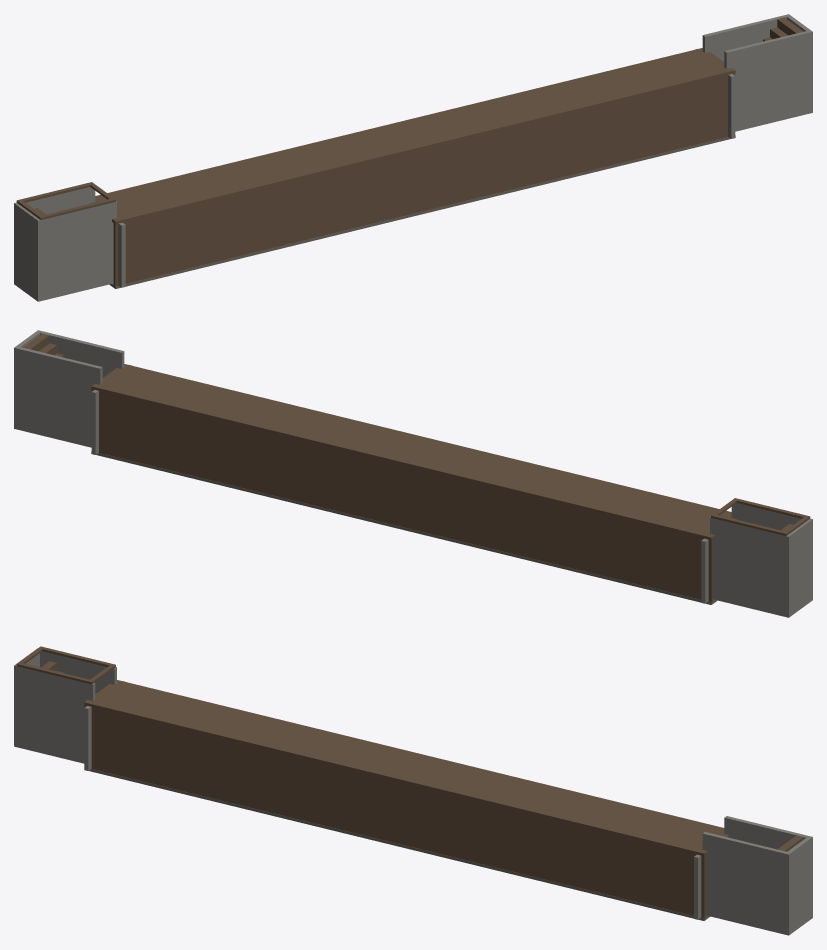
The model's file is SM_Gizli_Tunel.fbx.
3 views of the same model, one above another, from view 1: azimuth 30°, elevation 25°; view 2: azimuth 150°, elevation 25°; view 3: azimuth 330°, elevation 25° (orthographic).
Visible parts, largest first — view 1: Gizli_Tunel; view 2: Gizli_Tunel; view 3: Gizli_Tunel.
Boxes of the visible parts, box(x1,y1,x2,y2) form: Gizli_Tunel: box(14, 14, 812, 301); Gizli_Tunel: box(14, 330, 812, 617); Gizli_Tunel: box(14, 646, 812, 935).
Bounding box in the file's own units: 3002 × 318 × 250.
